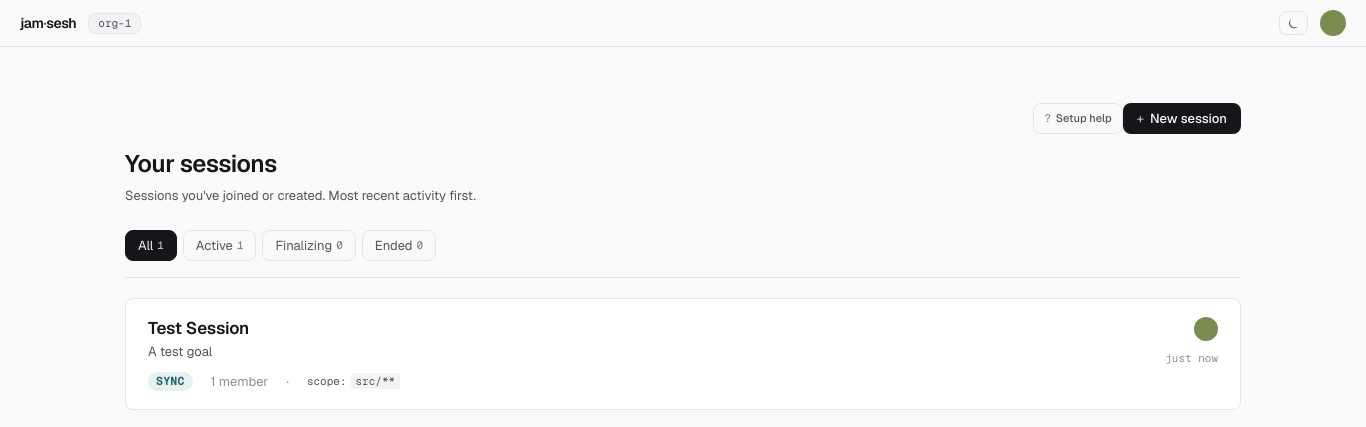
Scenario: SessionList › shows empty message when no sessions match filter
Click the button "Finalizing 0" at [309, 245], box x1=262 y1=230 x2=356 y2=260
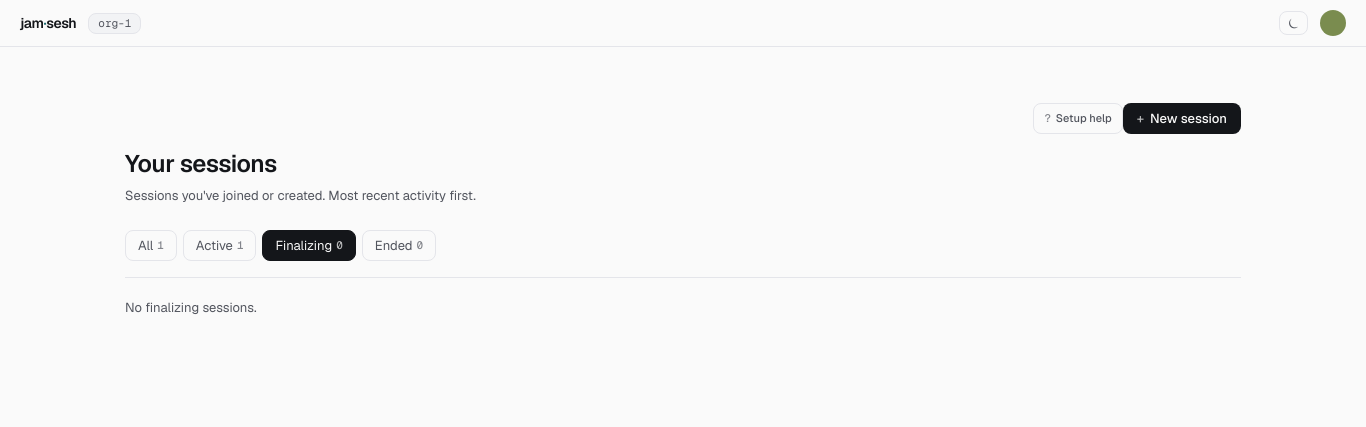
Now the text "No finalizing sessions." is shown, box x1=125 y1=298 x2=257 y2=316
